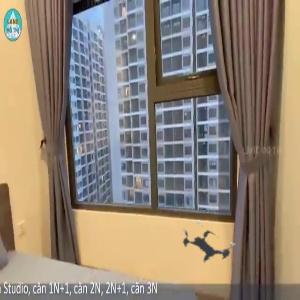drone: (163, 203, 249, 289)
